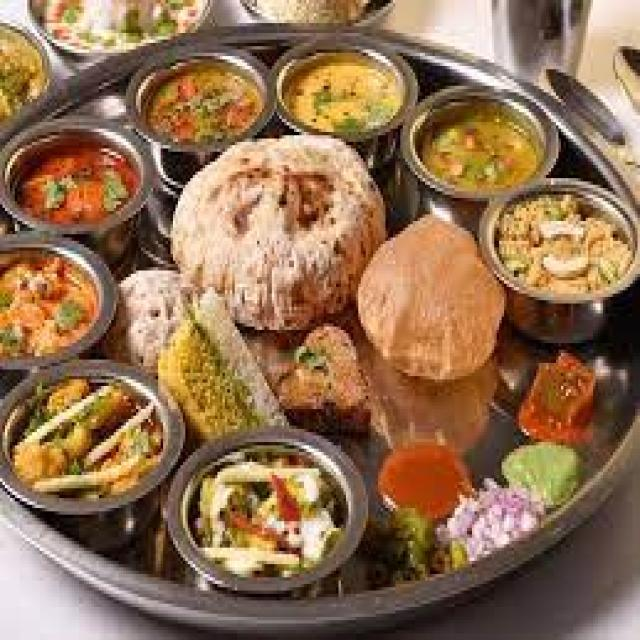dal: (269, 42, 420, 144)
roti: (175, 138, 370, 338)
sambar-rasam: (135, 57, 273, 148)
sweet: (374, 441, 475, 516)
veg: (11, 123, 143, 246)
veg-fry: (3, 371, 186, 506)
